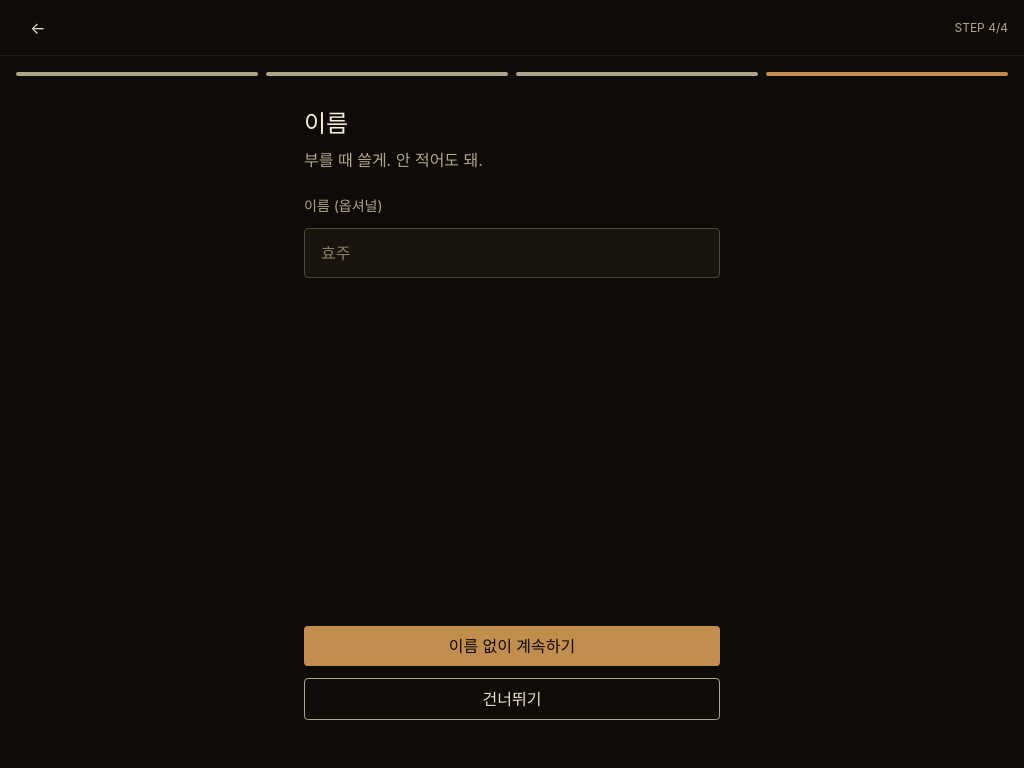
Scenario: /onboarding/name — Screen 5 (ISSUE-028) › removing all chars after typing a long invalid name clears the error
Type "가나다라마바사아자차카" into the field labelled "이름 (옵셔널)" at coordinates (512, 253), box [304,228,720,278]
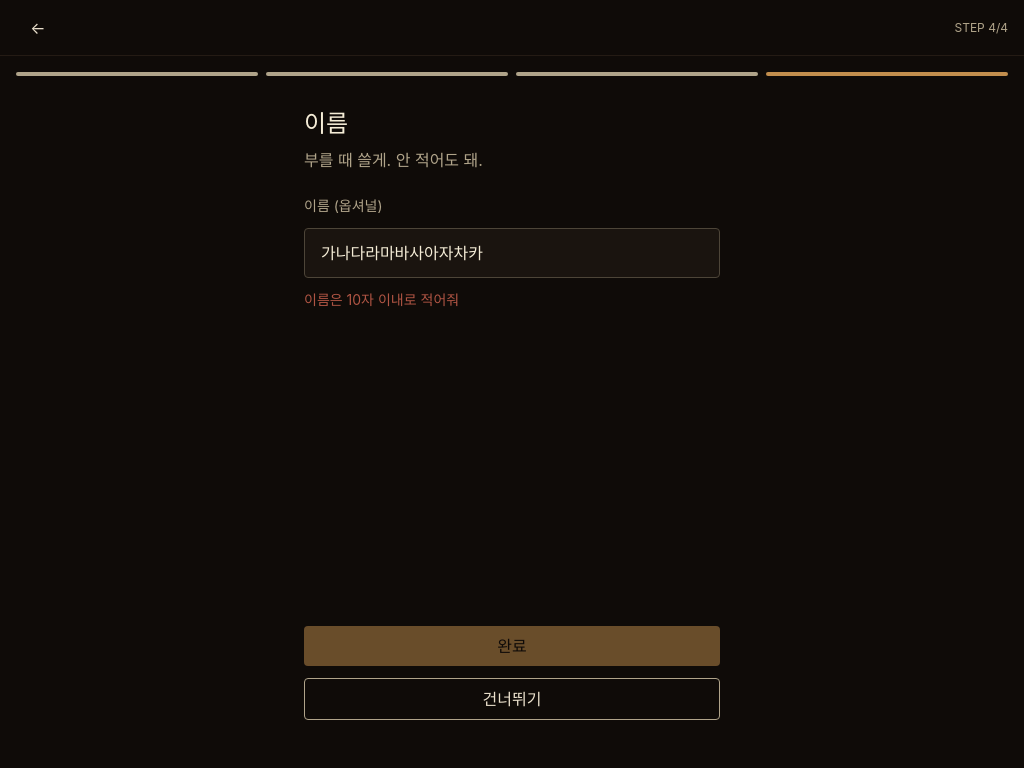
Expected: the text "이름은 10자 이내로 적어줘" is shown, [304,291,459,308]
Clear the field labelled "이름 (옵셔널)" at coordinates (512, 253), box [304,228,720,278]
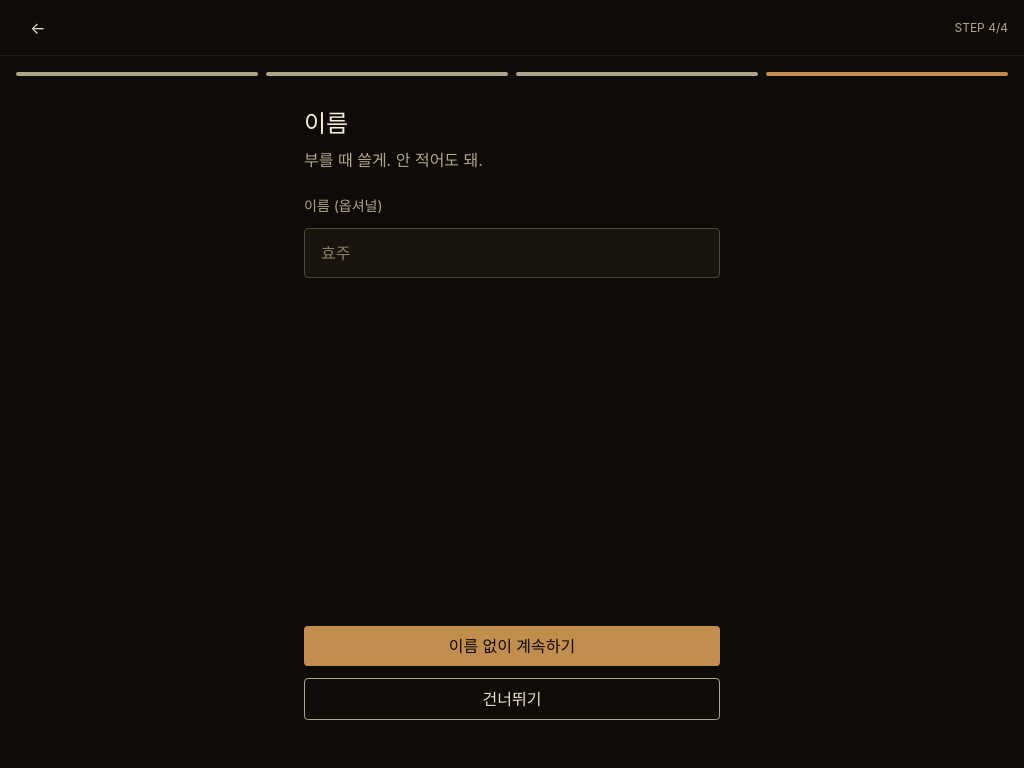
Expected: the text "이름은 10자 이내로 적어줘" is gone
